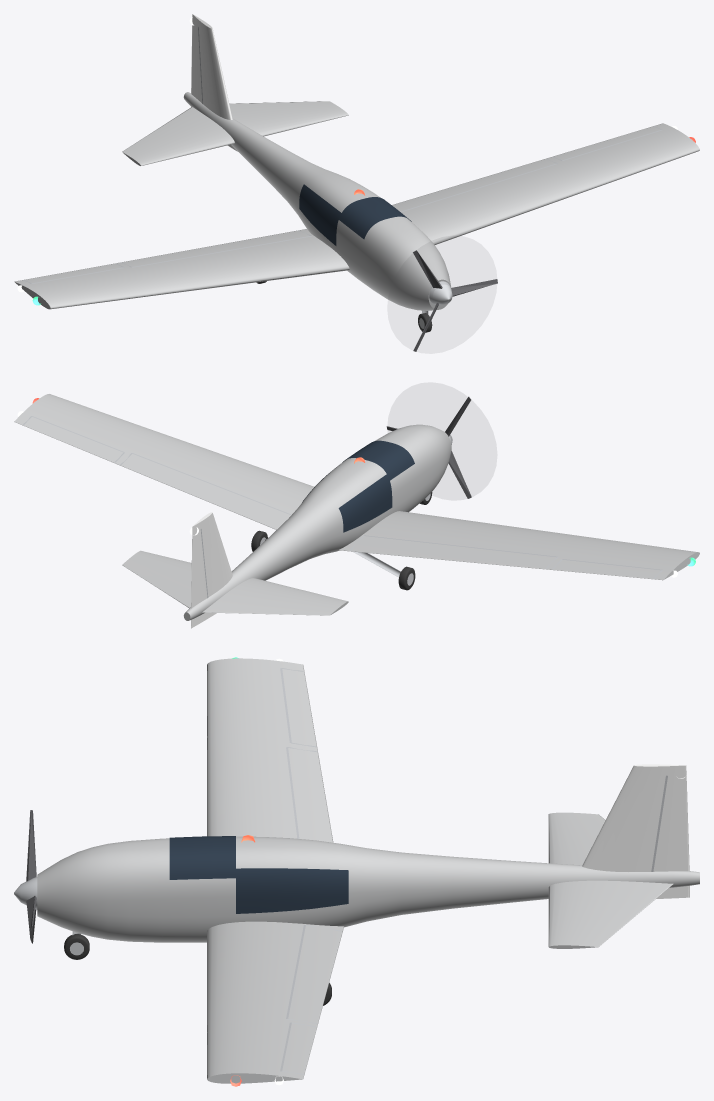
The picture shows the model from 3 angles, top to bottom: view 1: azimuth 30°, elevation 25°; view 2: azimuth 150°, elevation 25°; view 3: azimuth 270°, elevation 25°; orthographic projection. The views are drawn at different scales.
Parts seen in each view (by area): view 1: airframe, prop; view 2: airframe, prop; view 3: airframe, prop.
Part boxes in pixels (box(x1,y1,x2,y2)): airframe: box(14, 14, 699, 332); prop: box(413, 250, 497, 351); airframe: box(14, 394, 699, 628); prop: box(386, 396, 471, 498); airframe: box(14, 657, 699, 1086); prop: box(26, 810, 36, 943).
Bounding box in the file's own units: 11.92 × 2.68 × 8.18.
